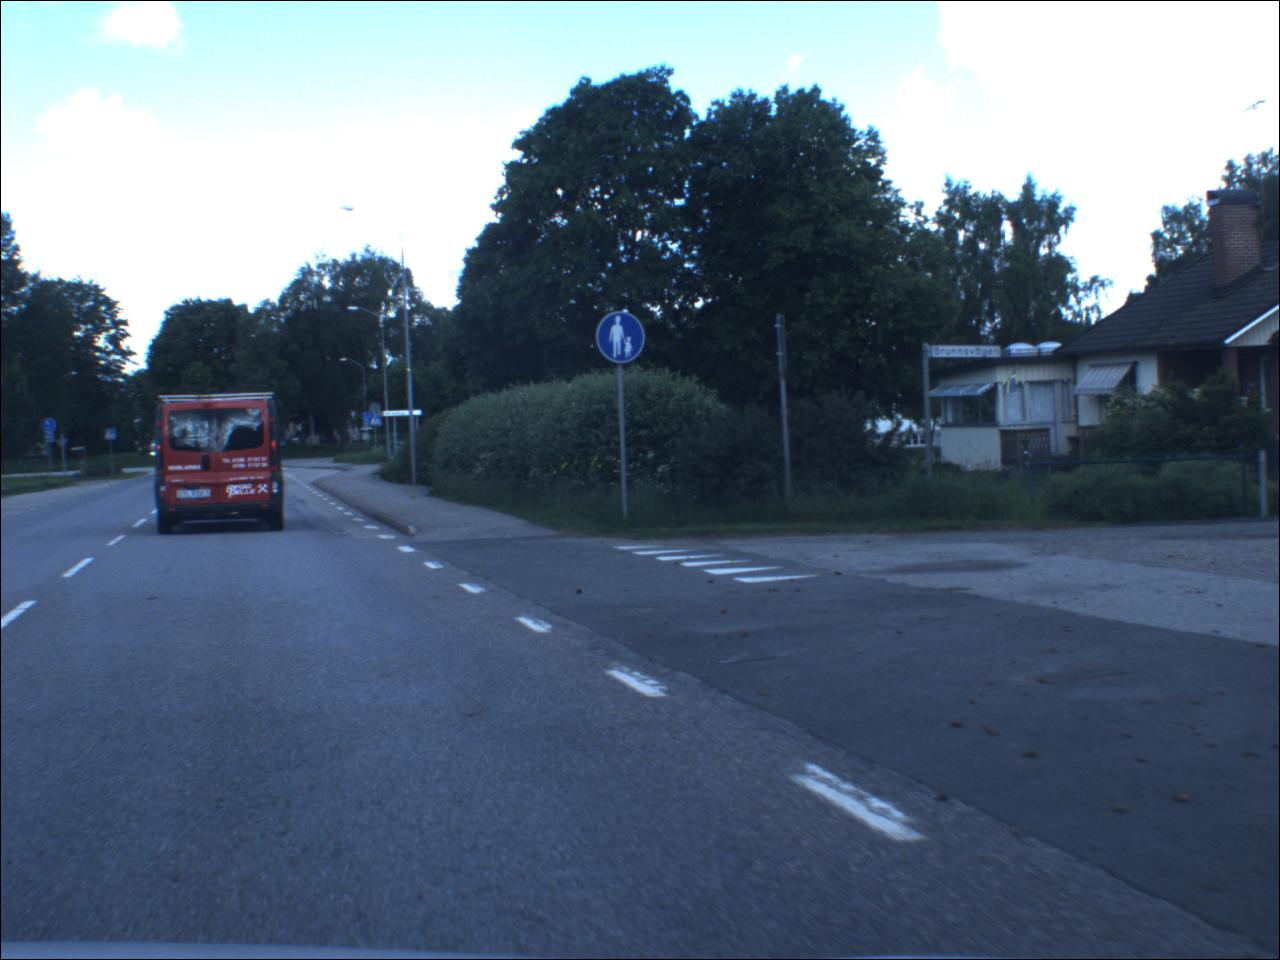PEDESTRIAN_CROSSING: (372, 414, 386, 428), (107, 430, 120, 443)
